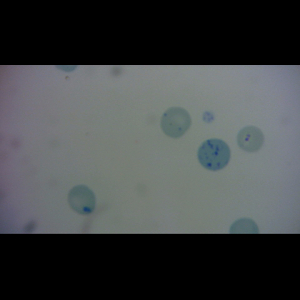aggregate reticulocyte: (196, 138, 232, 172)
erythrocyte: (66, 183, 97, 216), (235, 125, 266, 154)
punctate reticulocyte: (159, 105, 194, 140)
